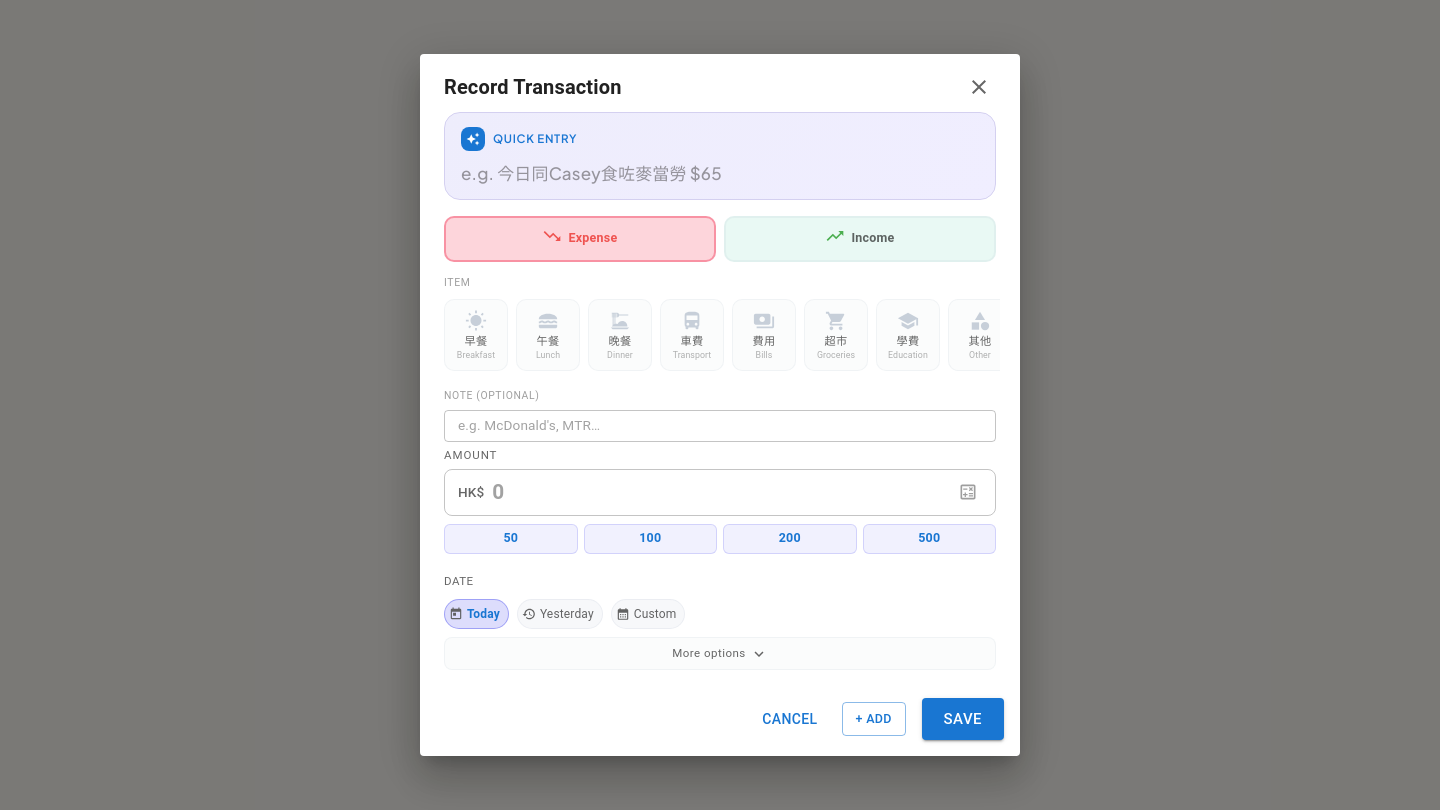
Test: AddExpenseModal › clicking Custom date shows date input
Click the button "Custom". click: (648, 614)
box: [611, 599, 686, 629]
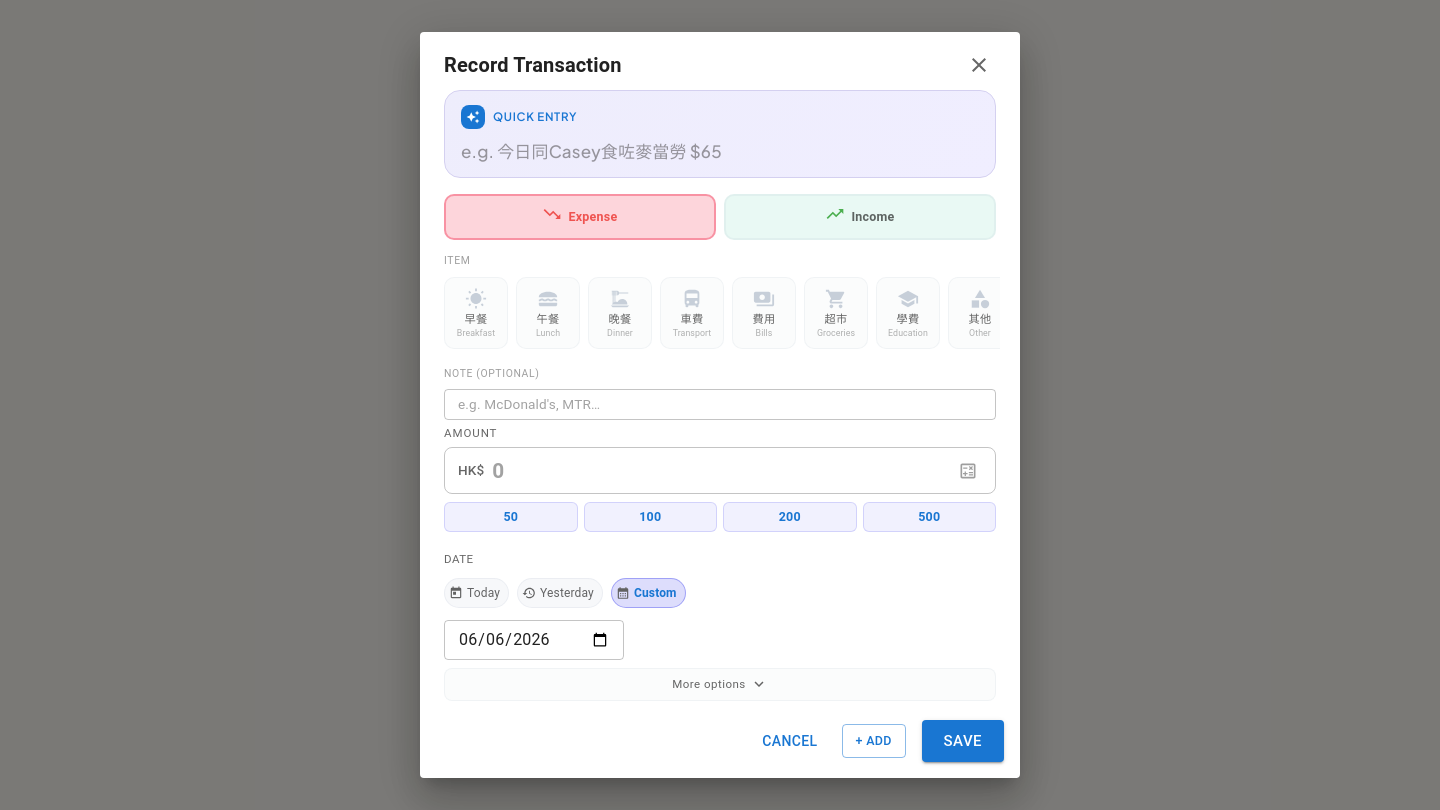
Check: the date field is shown, box [444, 620, 624, 660]
